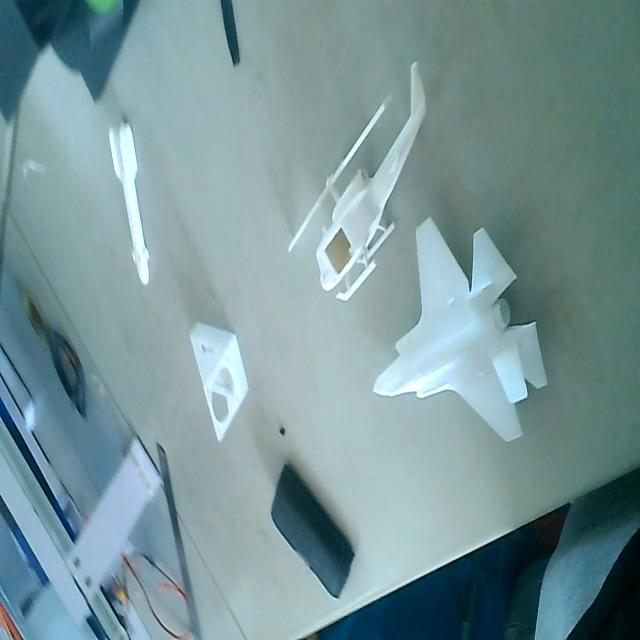Helicopter: (292, 59, 424, 302)
Jet: (373, 217, 550, 455)
Rocket: (106, 115, 154, 294)
